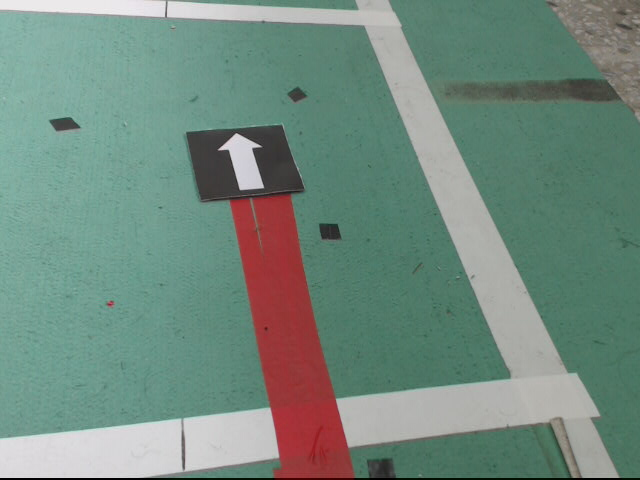straight: (186, 123, 304, 207)
